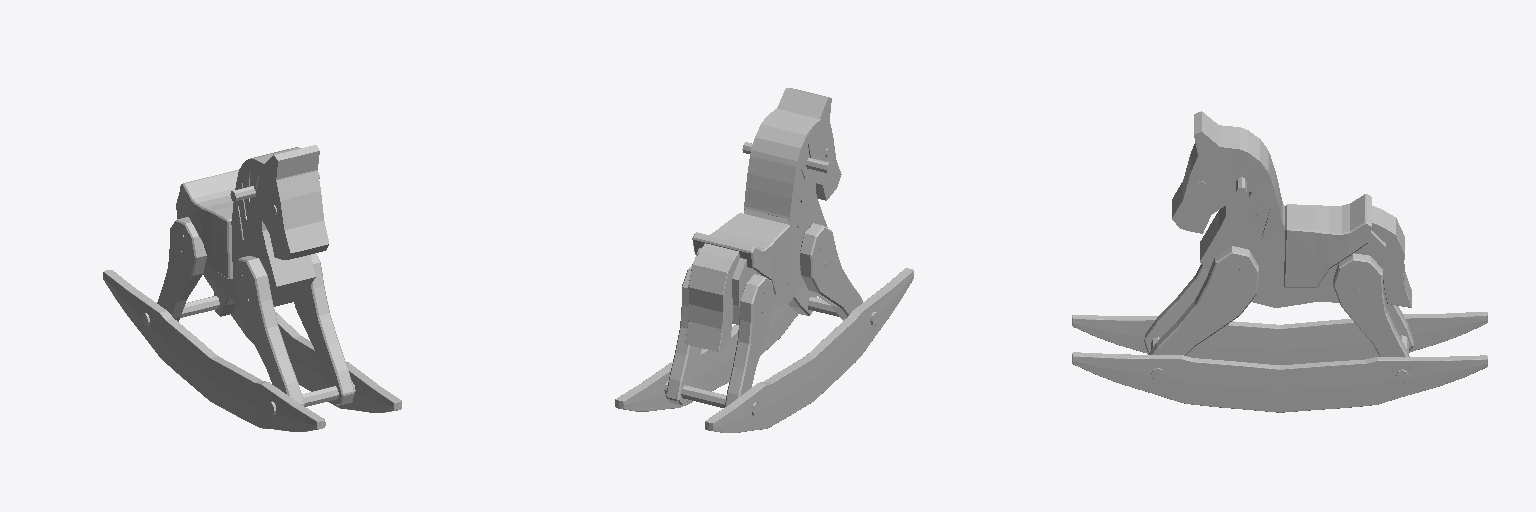
The model's file is horse.obj.
The picture shows the model from 3 angles: view 1: azimuth 30°, elevation 25°; view 2: azimuth 150°, elevation 25°; view 3: azimuth 270°, elevation 25°; orthographic projection.
Parts seen in each view (by area): view 1: WoodenHorse_all_geo; view 2: WoodenHorse_all_geo; view 3: WoodenHorse_all_geo.
Part boxes in pixels (x1,y1,x2,y2): WoodenHorse_all_geo: (103, 145, 401, 431); WoodenHorse_all_geo: (615, 88, 913, 432); WoodenHorse_all_geo: (1072, 111, 1487, 412).
Size of the model in its own units: 20.06 by 51.61 by 72.29.